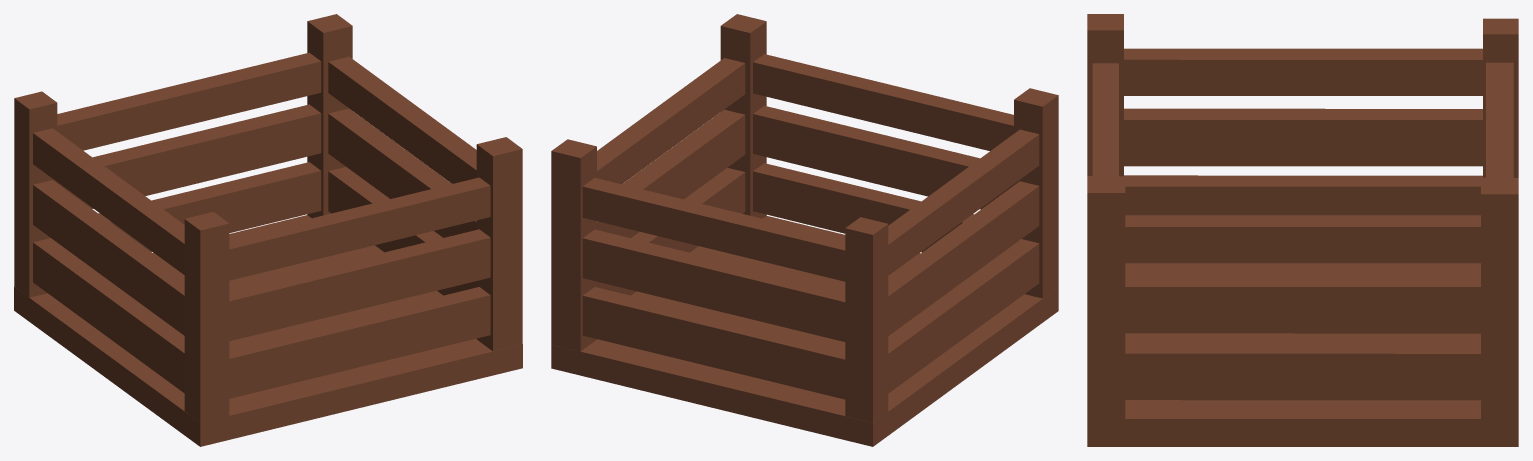
Rendered from box open lowpoly.fbx.
The picture shows the model from 3 angles, left to right: view 1: azimuth 30°, elevation 25°; view 2: azimuth 150°, elevation 25°; view 3: azimuth 270°, elevation 25°; orthographic projection. The views are drawn at different scales.
Visible parts, largest first — view 1: Plane.002; view 2: Plane.002; view 3: Plane.002.
Boxes of the visible parts, left/top/right/bottom form: Plane.002: left=14, top=14, right=522, bottom=446; Plane.002: left=551, top=14, right=1058, bottom=446; Plane.002: left=1087, top=14, right=1518, bottom=446.
Size of the model in its own units: 67.49 by 43.82 by 67.49.
